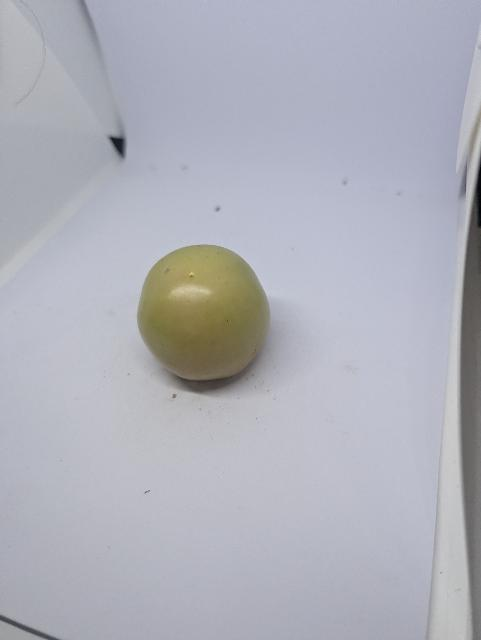breaker: (132, 243, 276, 388)
